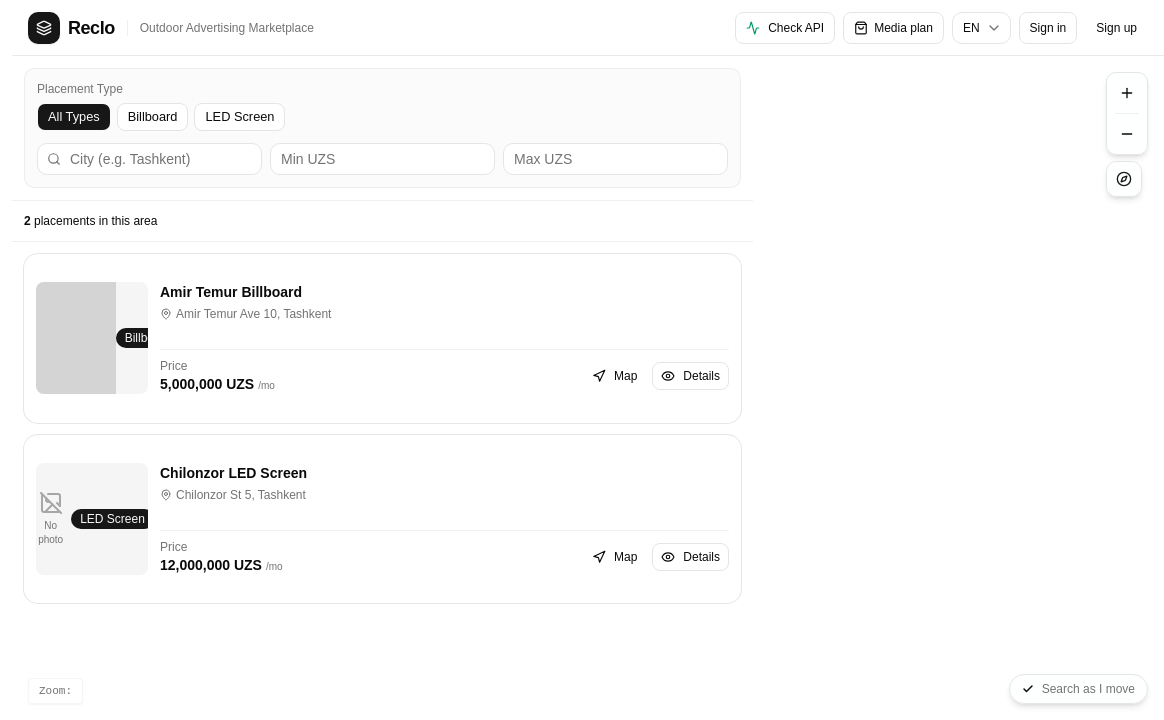
it: PlacementsDiscoveryPage › clears the filters on reset and reuses the cached unfiltered results
The width and height of the screenshot is (1164, 720).
Click the button "Billboard" at (153, 117), box 117,103 -> 188,131
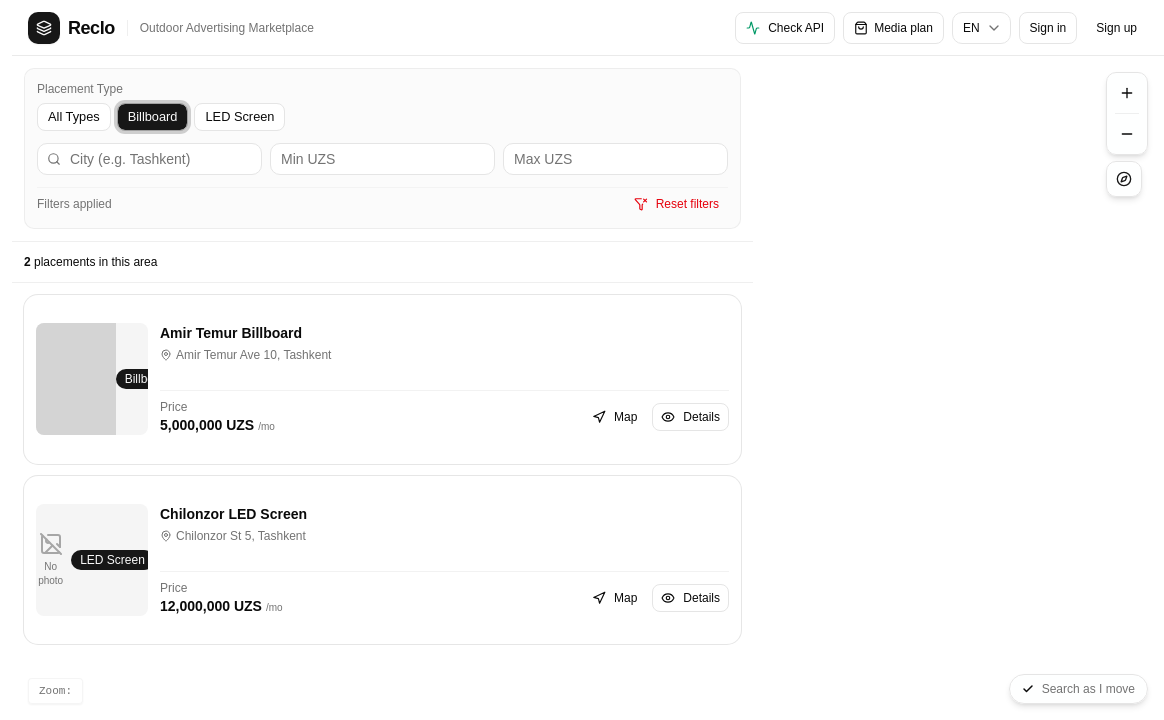
Click the button "Reset filters" at (676, 204), box 625,192 -> 728,216
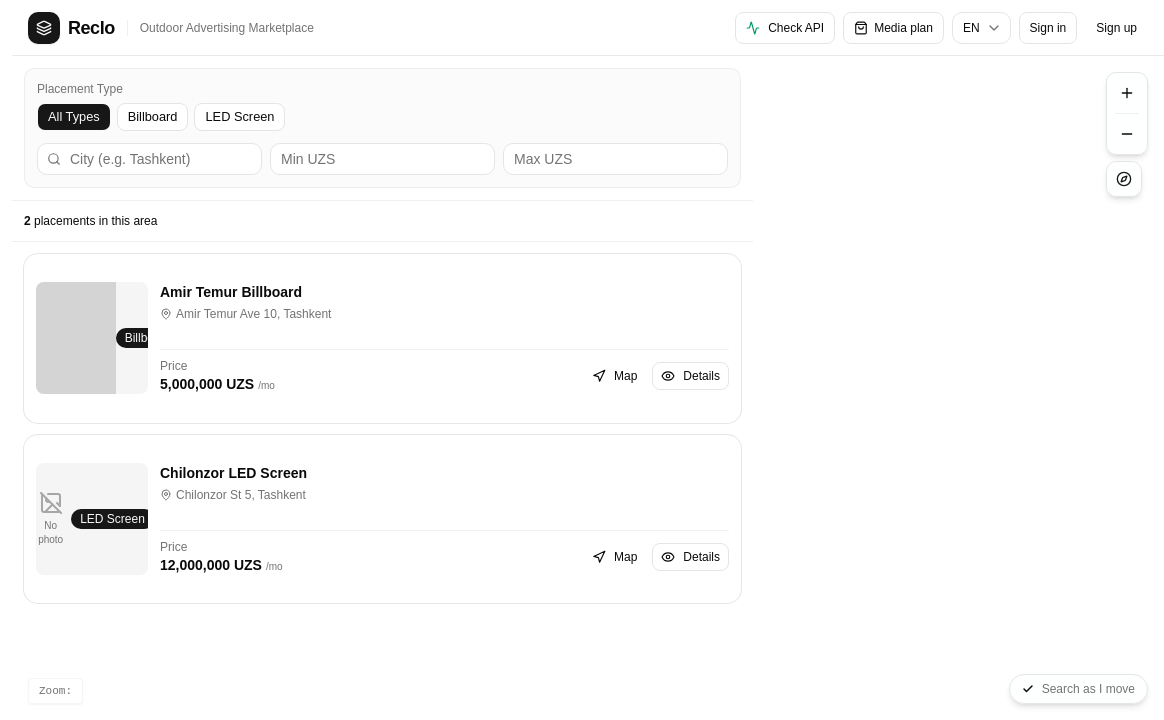
Expected: the button "All Types" is shown, 37,103 -> 111,131
Now the text "Filters applied" is gone
